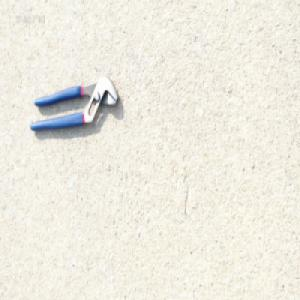Pliers: (28, 74, 119, 134)
